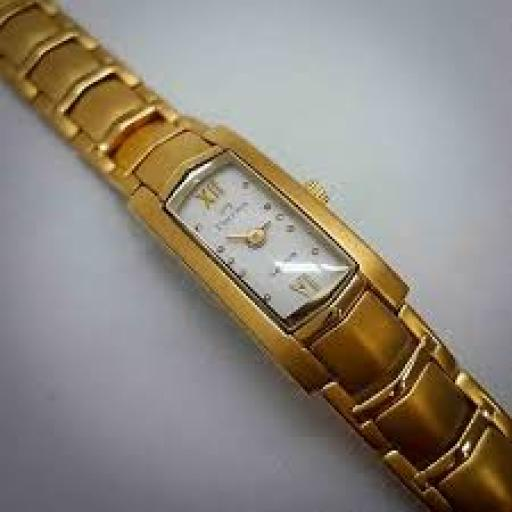KolSaati: (0, 2, 501, 512)
